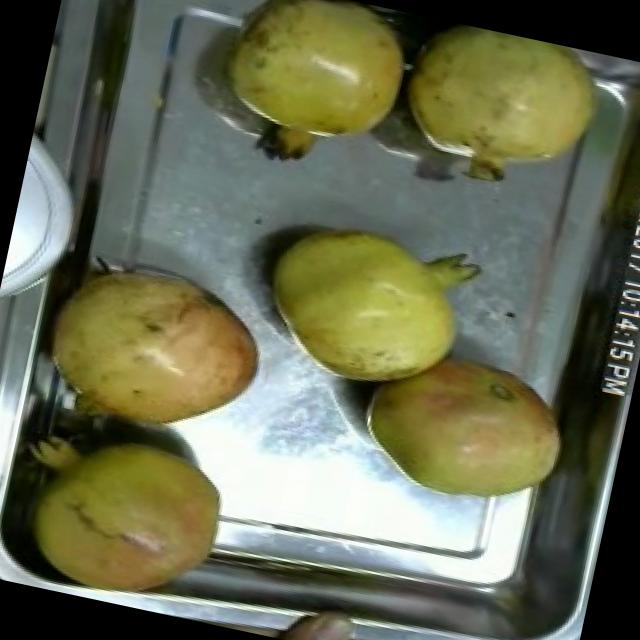fruit: (24, 232, 290, 460), (240, 192, 498, 411), (372, 13, 628, 226), (342, 330, 582, 524), (22, 416, 248, 620), (194, 0, 435, 179)
